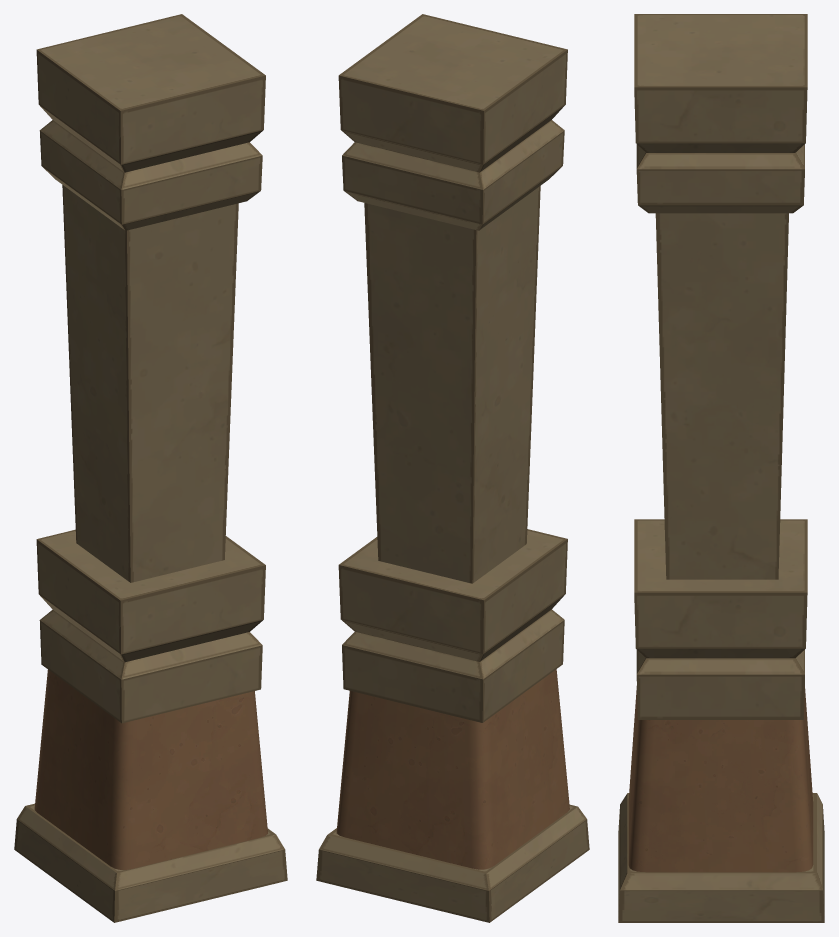
File: SM_building_column_07.glb
3 views of the same model, side by side, from view 1: azimuth 30°, elevation 25°; view 2: azimuth 150°, elevation 25°; view 3: azimuth 270°, elevation 25° (orthographic). The views are drawn at different scales.
Parts seen in each view (by area): view 1: SM_building_column_07; view 2: SM_building_column_07; view 3: SM_building_column_07.
Part boxes in pixels (<box>): SM_building_column_07: <box>14,14,287,922</box>; SM_building_column_07: <box>316,14,589,922</box>; SM_building_column_07: <box>618,14,824,922</box>.
Bounding box in the file's own units: 0.895 × 3.96 × 0.895.
2 materials, 2 textured.
